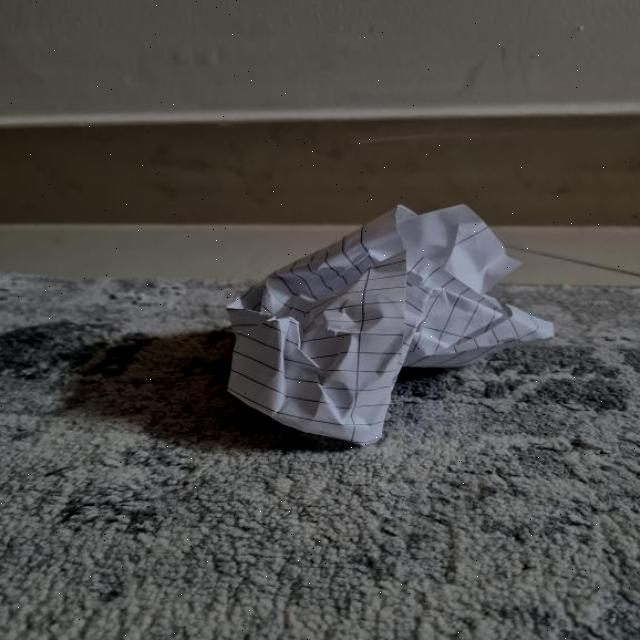trash: (210, 199, 552, 456)
